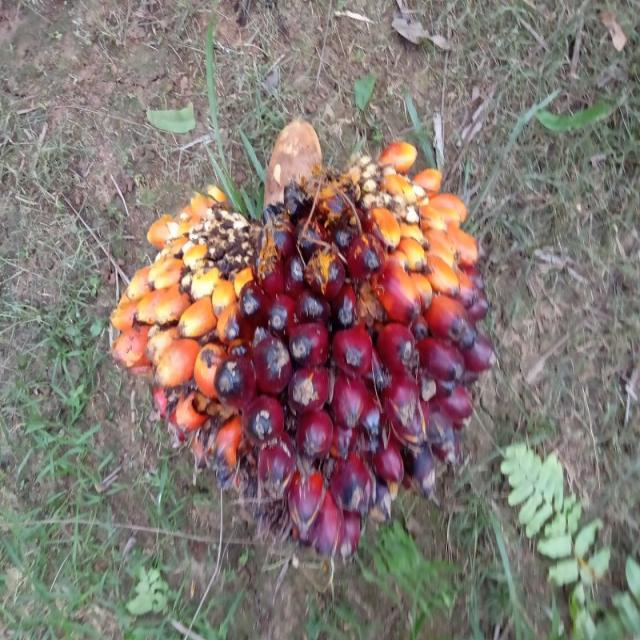fraksi 1: (84, 91, 518, 582)
